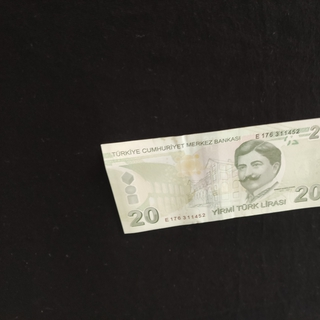20TLBack: (100, 115, 320, 234)
